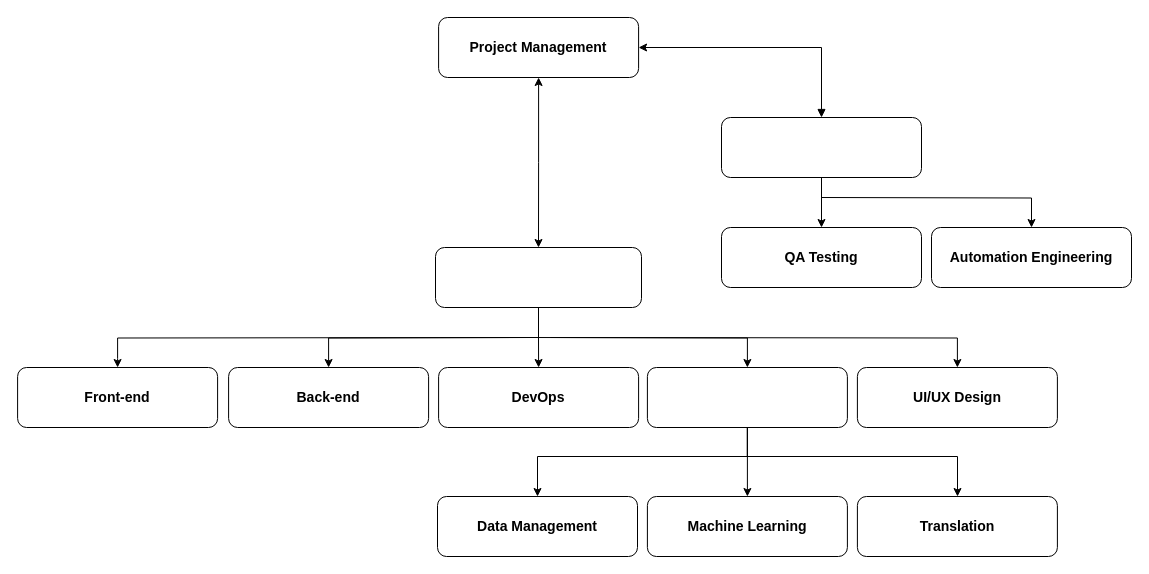
The diagram is 1149 pixels wide and 574 high, and some of its shapes have lost their labels. The centre of each missing label's shape, as x and y in pixels:
AI: (746,397)
Quality Assurance: (821,147)
Software Development: (538,277)
